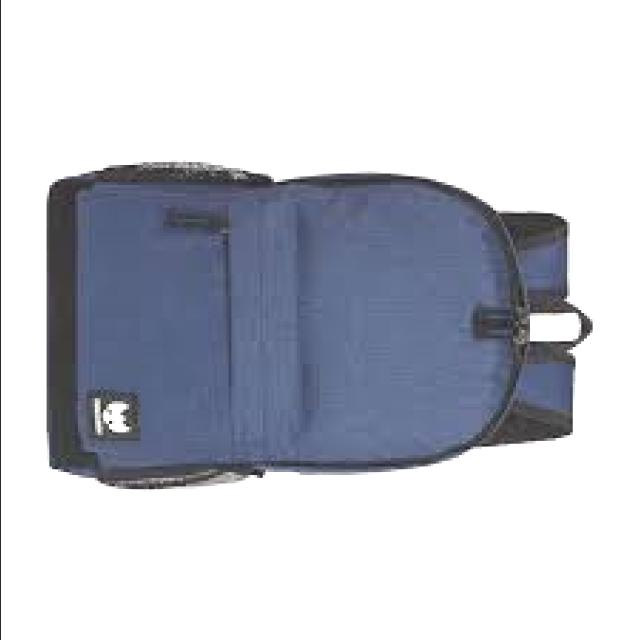backpack: (47, 161, 596, 491)
